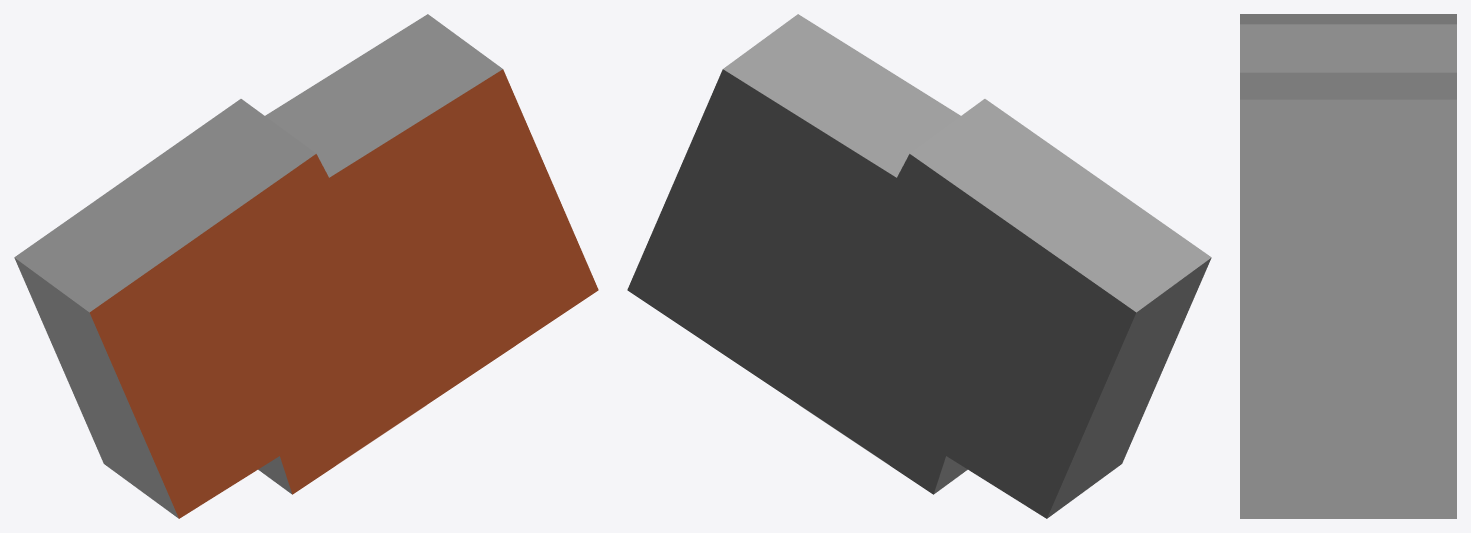
The model's file is construction_5354_assumed_A_Casa_h6m.obj.
3 views of the same model, side by side, from view 1: azimuth 30°, elevation 25°; view 2: azimuth 150°, elevation 25°; view 3: azimuth 270°, elevation 25° (orthographic). The views are drawn at different scales.
Parts seen in each view (by area): view 1: construction_5354_assumed_A_Casa; view 2: construction_5354_assumed_A_Casa; view 3: construction_5354_assumed_A_Casa.
Boxes of the visible parts, x1,y1,x2,y2 form: construction_5354_assumed_A_Casa: (14, 14, 598, 518); construction_5354_assumed_A_Casa: (627, 14, 1211, 518); construction_5354_assumed_A_Casa: (1240, 14, 1456, 518).
Size of the model in its own units: 23.43 by 16.46 by 6.
